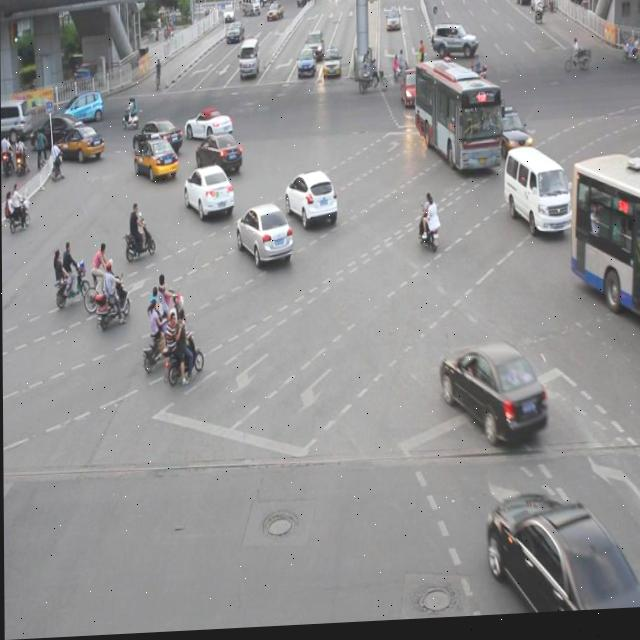car: (482, 489, 640, 619), (439, 343, 546, 449), (235, 203, 292, 269), (284, 171, 336, 231), (183, 164, 233, 221), (132, 136, 179, 183), (494, 109, 531, 164), (195, 133, 242, 176), (133, 118, 182, 158), (57, 123, 104, 161), (184, 108, 232, 144), (400, 69, 428, 111)
truck: (501, 148, 570, 239)
van: (569, 161, 640, 348), (415, 62, 498, 180)
